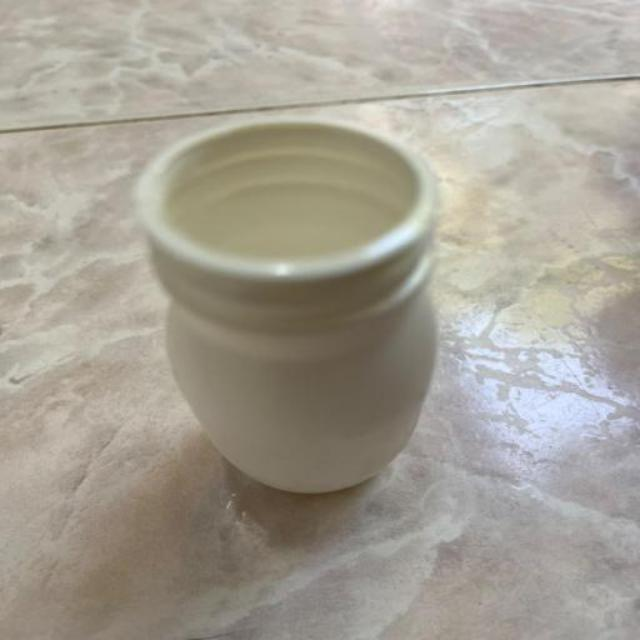HDPE: (140, 99, 486, 554)
